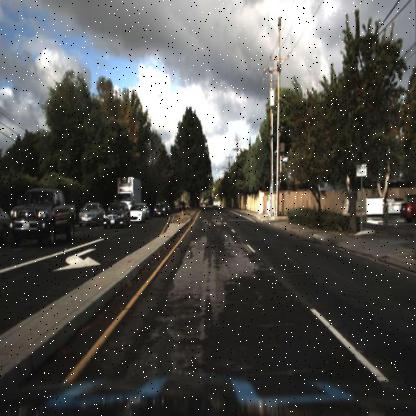car: (12, 189, 76, 251), (77, 200, 106, 228), (103, 199, 131, 227), (78, 199, 102, 231), (0, 202, 12, 242), (128, 203, 147, 224), (152, 198, 167, 219), (154, 200, 166, 220)
truck: (116, 174, 142, 206)
